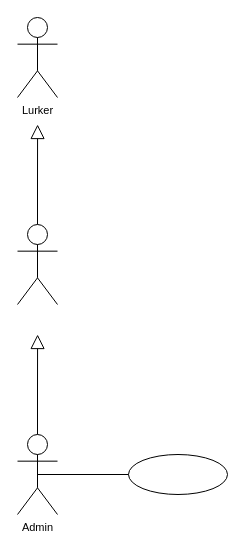
The diagram is 245 pixels wide and 552 high, and some of its shapes have lost their labels. Each missing label, with the centre of its shape:
"Assegna issue a User" goes at point (178, 474).
"User" goes at point (37, 264).
